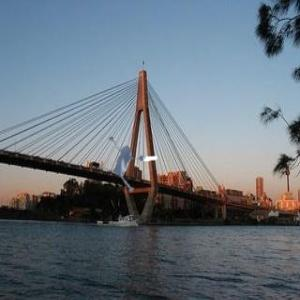drone: (90, 123, 174, 207)
